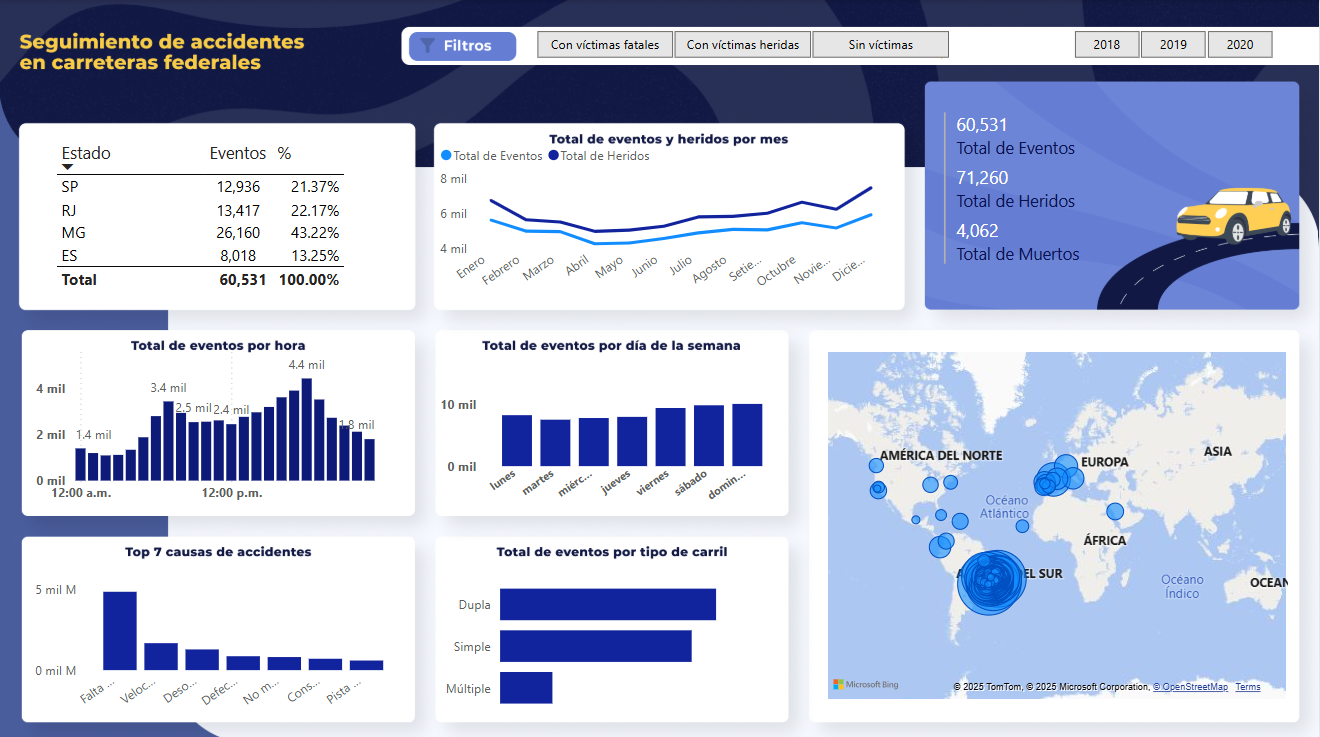

What the dashboard file says about the page in this screenshot:
{"tool":"powerbi","page":{"name":"Página 1","canvas":[1280,720],"ordinal":0},"visuals":[{"type":"columnChart","fields":{"Y":["CountNonNull(registro_acidente.id)"],"Category":["registro_acidente.hora (ubicaciones)"]},"box":[30.2,326.6,363.6,168.8],"z":0},{"type":"columnChart","fields":{"Y":["select","CountNonNull(registro_acidente.id)"],"Category":["registro_acidente.dia_en_texto"]},"box":[422.6,347.2,337.6,148.2],"z":1000},{"type":"columnChart","fields":{"Category":["registro_acidente.causa_accidente"],"Y":["Sum(registro_acidente.id)"]},"box":[30.2,540.7,363.6,155.1],"z":2000},{"type":"barChart","fields":{"Y":["Sum(registro_acidente.id)"],"Category":["registro_acidente.tipo_pista"]},"box":[422.6,540.7,337.6,163.3],"z":3000},{"type":"map","fields":{"Category":["registro_acidente.municipio"],"Size":["Sum(registro_acidente.id)"]},"box":[797.3,336.2,454.2,345.8],"z":4000},{"type":"tableEx","fields":{"Values":["registro_acidente.uf","CountNonNull(registro_acidente.id)","Sum(registro_acidente.id)1"]},"box":[49.4,129,296.4,160.5],"z":5000},{"type":"lineChart","fields":{"Category":["registro_acidente.Fecha.Variación.Jerarquía de fechas.Mes"],"Y":["CountNonNull(registro_acidente.id)","Sum(registro_acidente.Heridos)"]},"box":[422.6,130.4,440.5,160.5],"z":6000},{"type":"multiRowCard","fields":{"Values":["CountNonNull(registro_acidente.id)","Sum(registro_acidente.Heridos)","Sum(registro_acidente.Muertos)"]},"box":[909.8,104.3,209.9,168.8],"z":7000},{"type":"slicer","fields":{"Values":["registro_acidente.clasificación_accidente"]},"box":[495.4,23.3,448.7,35.7],"z":8000},{"type":"slicer","fields":{"Values":["registro_acidente.Fecha.Variación.Jerarquía de fechas.Año"]},"box":[1015.4,23.3,241.5,35.7],"z":9000}]}

Visuals, with their boxes in screenshot pixels (x1, y1, x2, y2), scaled from the page's 1280x720 canvas onto the 1320x737 screenshot:
columnChart - CountNonNull(registro_acidente.id) x registro_acidente.hora (ubicaciones): [x1=31, y1=334, x2=406, y2=507]
columnChart - select x CountNonNull(registro_acidente.id): [x1=436, y1=355, x2=784, y2=507]
columnChart - registro_acidente.causa_accidente x Sum(registro_acidente.id): [x1=31, y1=553, x2=406, y2=712]
barChart - Sum(registro_acidente.id) x registro_acidente.tipo_pista: [x1=436, y1=553, x2=784, y2=721]
map - registro_acidente.municipio x Sum(registro_acidente.id): [x1=822, y1=344, x2=1291, y2=698]
tableEx - registro_acidente.uf x CountNonNull(registro_acidente.id): [x1=51, y1=132, x2=357, y2=296]
lineChart - registro_acidente.Fecha.Variación.Jerarquía de fechas.Mes x CountNonNull(registro_acidente.id): [x1=436, y1=133, x2=890, y2=298]
multiRowCard - CountNonNull(registro_acidente.id) x Sum(registro_acidente.Heridos): [x1=938, y1=107, x2=1155, y2=280]
slicer - registro_acidente.clasificación_accidente: [x1=511, y1=24, x2=974, y2=60]
slicer - registro_acidente.Fecha.Variación.Jerarquía de fechas.Año: [x1=1047, y1=24, x2=1296, y2=60]
